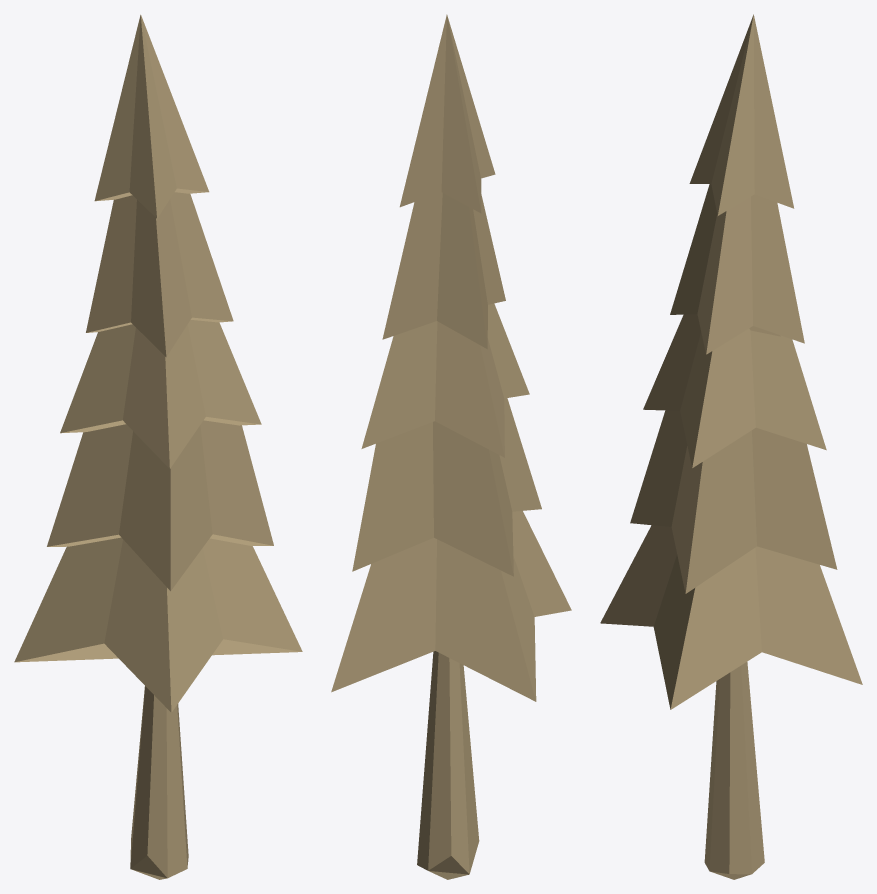
The model's file is tree4.obj.
3 views of the same model, side by side, from view 1: azimuth 30°, elevation 25°; view 2: azimuth 150°, elevation 25°; view 3: azimuth 270°, elevation 25° (orthographic).
Visible parts, largest first — view 1: Object_54; view 2: Object_54; view 3: Object_54.
Boxes of the visible parts, left/top/right/bottom form: Object_54: left=14, top=14, right=302, bottom=879; Object_54: left=331, top=14, right=571, bottom=879; Object_54: left=600, top=14, right=862, bottom=879.
Size of the model in its own units: 25.45 by 91.95 by 25.43.
